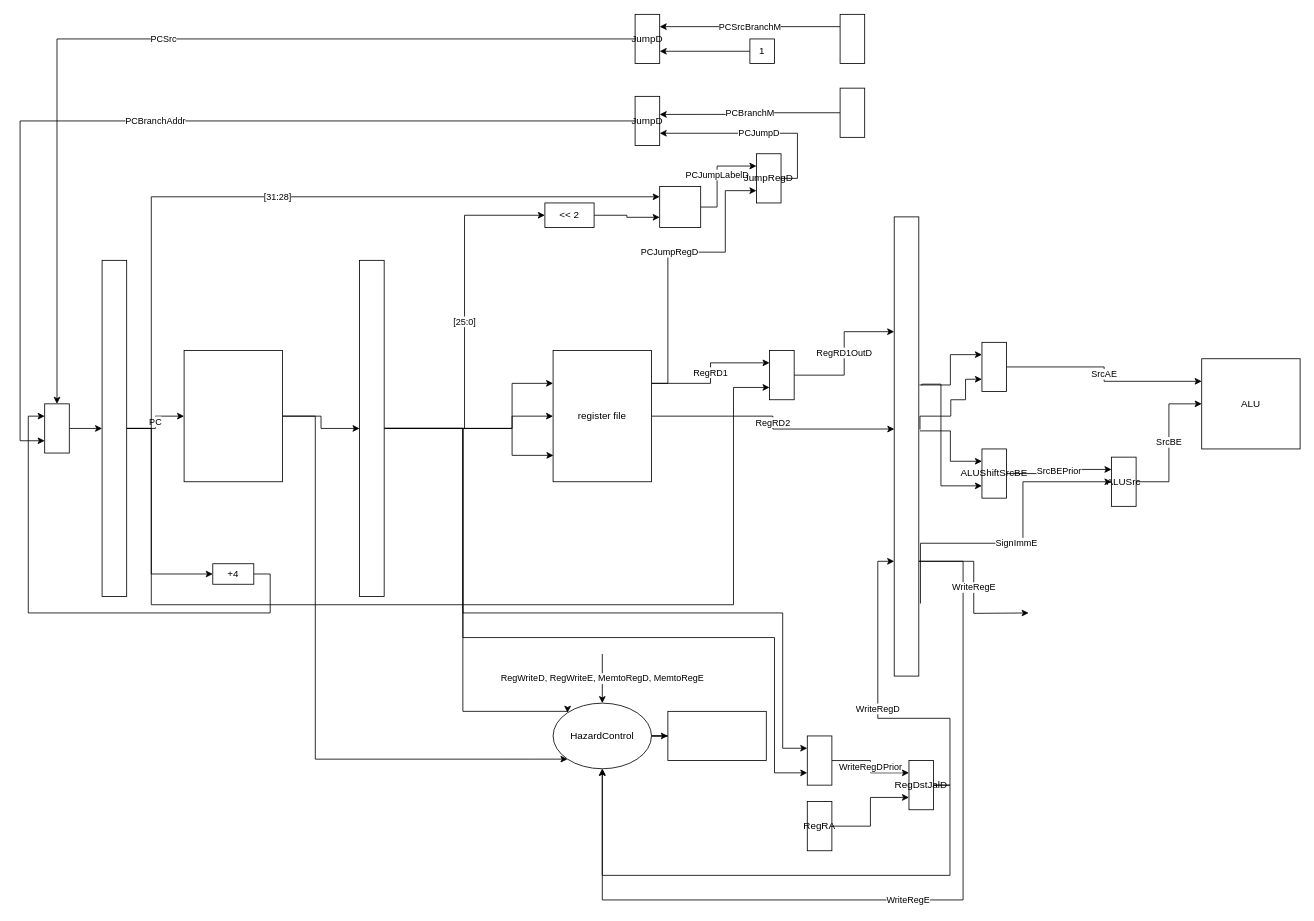
Image size: 1314x921. Some labels were removed from this diagram. The shapes that lost their labels are listed below. From the top down, each one's centre as x and y in pixels, then its label:
At point 680,207: "concat".
At point 781,375: "RegRD1OutSrcD".
At point 994,367: "ALUShiftSrcAE".
At point 232,416: "Instruction Mem".
At point 716,736: "stall & count".
At point 819,760: "RegDstD".
